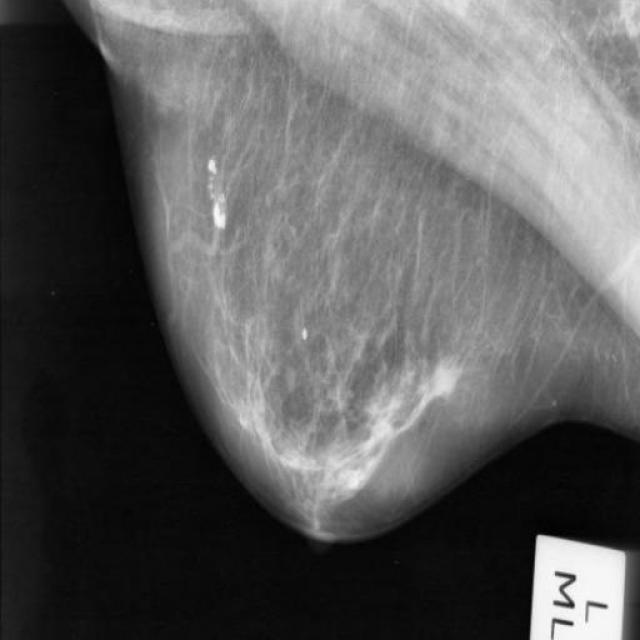cancer: (418, 338, 484, 427)
